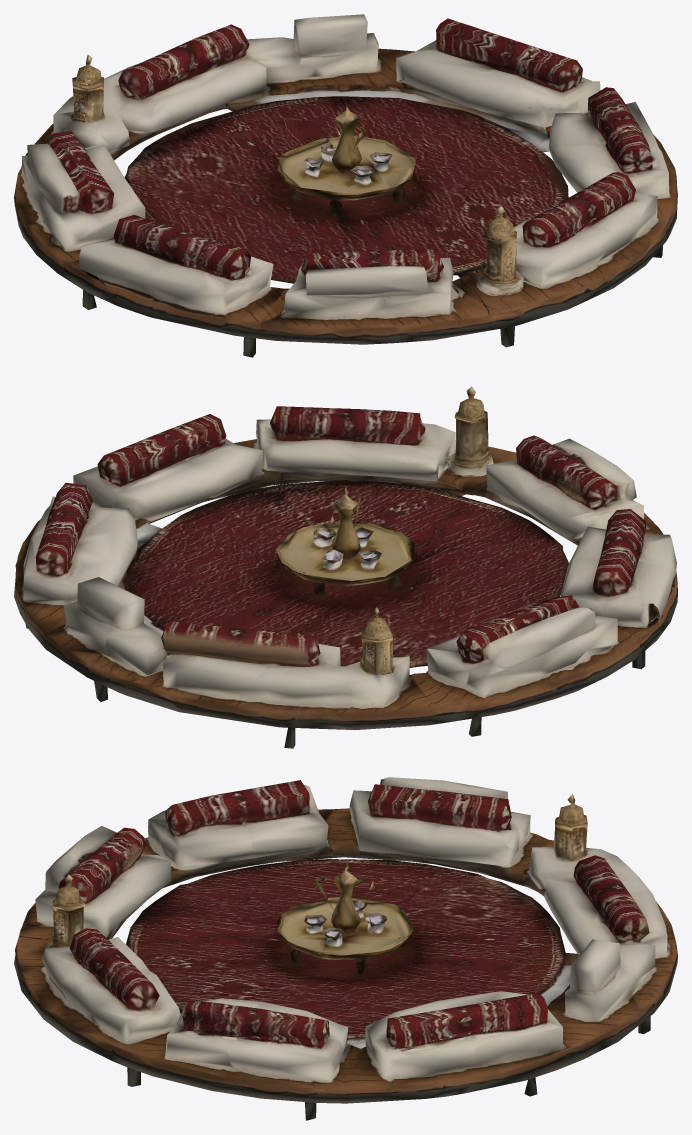
The model's file is majlis.glb.
3 renders of one model, top to bottom at view 1: azimuth 30°, elevation 25°; view 2: azimuth 150°, elevation 25°; view 3: azimuth 270°, elevation 25°, orthographic.
Parts seen in each view (by area): view 1: tripo_node_ab980b30-34aa-4ec0-a63f-fe527f6721de; view 2: tripo_node_ab980b30-34aa-4ec0-a63f-fe527f6721de; view 3: tripo_node_ab980b30-34aa-4ec0-a63f-fe527f6721de.
Boxes of the visible parts, <box> form: tripo_node_ab980b30-34aa-4ec0-a63f-fe527f6721de: <box>14,14,677,357</box>; tripo_node_ab980b30-34aa-4ec0-a63f-fe527f6721de: <box>14,386,677,748</box>; tripo_node_ab980b30-34aa-4ec0-a63f-fe527f6721de: <box>14,777,677,1120</box>.
Size of the model in its own units: 0.9992 by 0.21 by 0.9995.
Materials: 1 (1 with a texture image).
